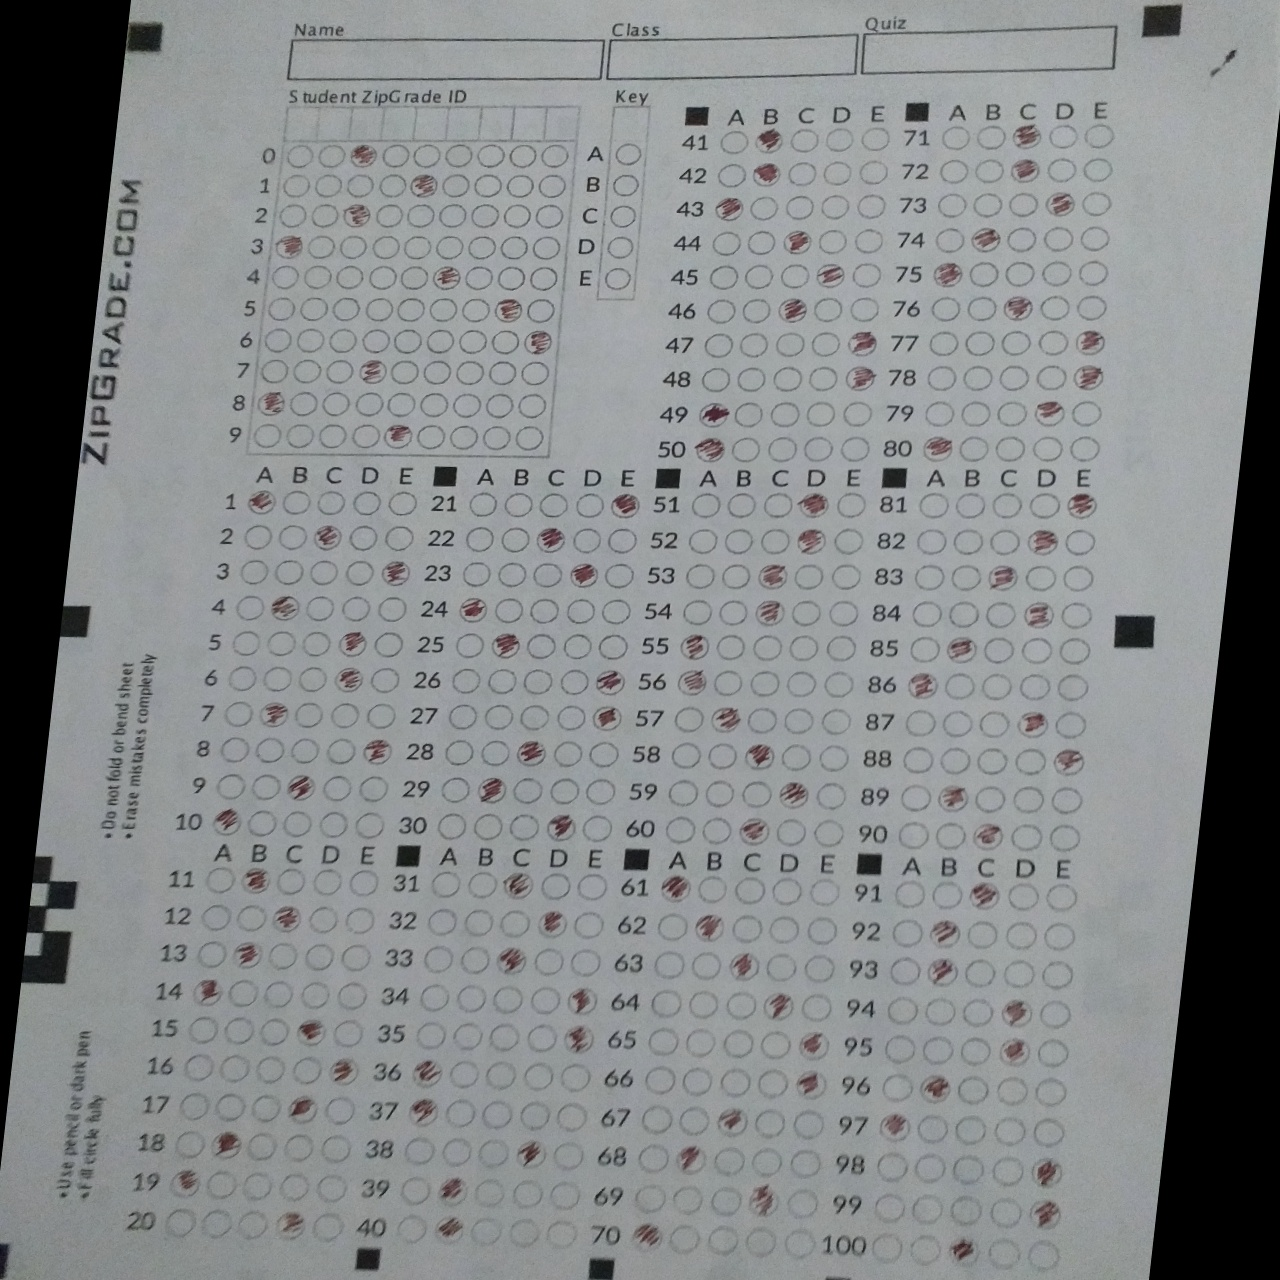not-c: (942, 1190, 985, 1228), (905, 1228, 945, 1268), (1034, 998, 1080, 1032), (635, 1099, 678, 1136), (870, 1149, 912, 1184), (886, 915, 930, 949), (161, 1204, 200, 1240), (166, 1124, 207, 1159), (983, 1235, 1024, 1271), (628, 1182, 670, 1216), (917, 1032, 959, 1065), (501, 1216, 545, 1247), (878, 1030, 918, 1065), (1023, 1238, 1064, 1272), (983, 1194, 1024, 1228), (987, 1155, 1028, 1189), (1033, 1036, 1075, 1069), (468, 1177, 511, 1208), (869, 1227, 906, 1264), (908, 1189, 945, 1226), (390, 1208, 429, 1244), (798, 989, 837, 1024), (870, 1189, 908, 1224), (651, 908, 690, 942), (989, 1114, 1029, 1148), (1044, 821, 1084, 855), (542, 1217, 583, 1250), (779, 1226, 821, 1259), (883, 952, 924, 985), (999, 918, 1040, 951), (1051, 670, 1092, 703), (784, 1148, 826, 1179), (316, 1130, 355, 1164), (753, 1065, 791, 1099), (707, 1184, 745, 1218), (1029, 1114, 1068, 1148), (959, 1033, 998, 1067), (474, 1137, 513, 1170), (645, 985, 685, 1017), (751, 1107, 791, 1139), (632, 1141, 672, 1173), (1039, 959, 1078, 992), (949, 1114, 990, 1145), (784, 1184, 821, 1219), (288, 1051, 326, 1085), (173, 1088, 211, 1122), (519, 1058, 557, 1092), (395, 1173, 433, 1207), (910, 1150, 947, 1184), (210, 1090, 248, 1123), (410, 1017, 449, 1050), (557, 1060, 595, 1092), (481, 1058, 519, 1091), (399, 1132, 437, 1165), (1032, 1075, 1070, 1108), (243, 1130, 282, 1162), (545, 1179, 585, 1211), (729, 874, 769, 906), (756, 1027, 796, 1058), (881, 993, 921, 1024), (892, 819, 932, 851), (942, 598, 982, 629), (665, 738, 706, 769), (888, 878, 930, 908), (896, 742, 937, 772), (1032, 361, 1073, 392), (668, 1183, 704, 1217), (704, 1223, 741, 1257), (321, 1092, 359, 1125), (666, 1223, 703, 1255), (742, 1225, 779, 1258), (425, 869, 464, 900), (522, 1022, 560, 1054), (824, 597, 863, 628), (930, 821, 968, 852), (845, 259, 885, 290), (874, 1071, 914, 1102), (910, 526, 949, 557), (1024, 490, 1064, 520), (791, 1108, 826, 1142), (275, 1171, 312, 1204), (309, 1211, 346, 1244), (681, 1024, 717, 1057), (251, 1053, 288, 1084), (181, 1049, 218, 1081), (418, 942, 456, 974), (436, 1135, 474, 1166), (696, 361, 734, 393), (663, 775, 701, 806), (810, 817, 847, 849), (765, 914, 803, 946), (640, 1063, 678, 1095), (913, 1112, 951, 1144), (1041, 919, 1078, 951), (1014, 670, 1051, 702), (980, 598, 1017, 629), (566, 947, 605, 978), (550, 1139, 588, 1170), (467, 1216, 505, 1246), (660, 812, 699, 843), (686, 949, 724, 980), (678, 1065, 716, 1096), (947, 1153, 986, 1184), (992, 1076, 1030, 1107), (1010, 745, 1049, 776), (918, 399, 956, 429), (493, 907, 533, 937), (937, 709, 976, 738), (329, 1016, 365, 1049), (248, 1090, 284, 1123), (240, 1169, 275, 1201), (764, 951, 799, 983), (646, 1024, 681, 1057), (717, 1065, 753, 1098), (197, 900, 233, 932), (574, 871, 611, 903), (416, 980, 452, 1012), (833, 489, 870, 520), (720, 1027, 756, 1058), (961, 995, 998, 1027), (961, 958, 998, 989), (517, 1099, 554, 1130), (837, 434, 874, 464), (812, 778, 850, 809), (701, 777, 738, 808), (767, 876, 804, 906), (728, 913, 765, 944), (748, 1146, 785, 1177), (921, 994, 959, 1024), (979, 635, 1016, 666), (993, 399, 1030, 429), (959, 361, 996, 392), (1073, 292, 1110, 322), (930, 224, 967, 254), (312, 1173, 350, 1203), (808, 297, 846, 326), (765, 399, 804, 428), (799, 953, 838, 982), (971, 745, 1009, 775), (1061, 527, 1099, 557), (912, 490, 951, 519), (990, 433, 1029, 462), (678, 1104, 712, 1137), (306, 903, 341, 934), (222, 1014, 257, 1046), (281, 1131, 316, 1163), (199, 1207, 234, 1239), (234, 1208, 270, 1240), (700, 813, 735, 845), (908, 597, 944, 628), (989, 488, 1024, 519), (958, 397, 993, 429), (1037, 291, 1073, 322), (1002, 258, 1037, 290), (217, 1053, 253, 1083), (526, 985, 563, 1015), (445, 1058, 482, 1089), (510, 1178, 546, 1208), (763, 433, 799, 463), (687, 489, 723, 519), (806, 876, 843, 906), (723, 990, 760, 1021), (712, 1145, 748, 1176), (954, 1075, 990, 1105), (964, 919, 1000, 949), (930, 879, 966, 910), (1005, 881, 1041, 912), (1043, 881, 1080, 912), (897, 781, 933, 811), (973, 783, 1009, 813), (937, 744, 973, 775), (900, 707, 937, 737), (1022, 561, 1058, 592), (309, 866, 347, 896), (553, 1103, 591, 1132), (649, 949, 687, 979), (1053, 710, 1090, 740), (1035, 327, 1073, 356), (926, 294, 964, 324), (1057, 601, 1096, 629), (908, 563, 947, 591), (1058, 564, 1097, 592), (1081, 122, 1119, 150), (257, 1015, 291, 1047), (204, 1167, 238, 1199), (571, 908, 605, 940), (462, 905, 496, 937), (704, 738, 738, 770), (281, 139, 316, 170), (455, 326, 490, 356), (335, 980, 370, 1010), (531, 946, 566, 976), (451, 1021, 486, 1051), (823, 632, 858, 662), (805, 915, 840, 946), (686, 988, 721, 1019), (1001, 958, 1036, 988), (1009, 823, 1044, 853), (996, 361, 1032, 392), (263, 293, 299, 322), (584, 776, 620, 805), (486, 1022, 523, 1051), (442, 1098, 478, 1128), (479, 1099, 516, 1129), (700, 328, 736, 358), (769, 365, 805, 394), (693, 874, 729, 904), (978, 670, 1014, 700), (949, 527, 986, 557), (987, 527, 1023, 557), (714, 127, 751, 155), (1017, 635, 1055, 663), (1055, 636, 1092, 665), (226, 976, 259, 1008), (454, 981, 486, 1013), (372, 200, 406, 231), (261, 980, 295, 1010), (343, 905, 377, 935), (489, 983, 523, 1014), (856, 156, 890, 186), (1049, 787, 1083, 817), (1039, 258, 1073, 288), (937, 155, 971, 185), (579, 813, 614, 843), (464, 870, 499, 899), (457, 945, 492, 974), (799, 433, 835, 462), (744, 704, 779, 734), (738, 778, 774, 808), (772, 817, 808, 846), (1010, 785, 1046, 815), (941, 670, 976, 700), (907, 634, 942, 663), (1067, 433, 1102, 462), (962, 328, 998, 358), (967, 259, 1002, 288), (969, 190, 1005, 219), (934, 190, 969, 219), (857, 124, 893, 152), (713, 161, 749, 189), (850, 225, 886, 253), (815, 743, 851, 771), (952, 490, 988, 518), (998, 329, 1034, 358), (1075, 259, 1111, 287), (258, 326, 295, 353), (707, 229, 744, 256), (299, 978, 331, 1009), (267, 940, 300, 971), (1041, 156, 1080, 182), (339, 942, 373, 972), (302, 941, 336, 971), (840, 399, 874, 428), (1032, 433, 1065, 462), (1080, 188, 1114, 217), (436, 812, 471, 840), (423, 908, 458, 937), (782, 193, 817, 222), (978, 710, 1013, 738), (925, 362, 960, 390), (1078, 225, 1114, 253), (1005, 190, 1040, 218), (972, 157, 1007, 185), (972, 122, 1007, 150), (937, 123, 972, 151), (537, 872, 573, 899), (776, 263, 812, 290), (1070, 400, 1107, 427), (1041, 225, 1077, 252), (702, 298, 740, 324), (404, 200, 438, 229), (721, 526, 755, 554), (550, 738, 584, 767), (821, 159, 855, 188), (772, 329, 806, 358), (805, 365, 839, 393), (724, 490, 758, 518), (821, 669, 855, 697), (779, 743, 813, 771), (706, 263, 741, 290), (737, 331, 772, 358), (783, 670, 818, 697), (782, 707, 817, 734), (325, 326, 358, 354), (196, 940, 229, 968), (234, 904, 267, 932), (819, 193, 852, 222), (729, 434, 762, 462), (821, 707, 853, 735), (531, 202, 565, 229), (433, 234, 467, 261), (267, 263, 301, 290), (515, 392, 549, 418), (587, 740, 621, 767), (855, 193, 888, 220), (815, 229, 849, 256), (1005, 225, 1039, 252), (948, 564, 983, 590), (964, 295, 999, 321), (1080, 157, 1115, 183), (501, 200, 532, 229), (298, 294, 329, 322), (489, 328, 520, 356), (742, 263, 774, 291), (733, 399, 764, 427), (508, 142, 540, 169), (468, 202, 501, 229), (527, 265, 560, 292), (459, 297, 492, 324), (324, 358, 356, 384), (291, 358, 324, 384), (386, 490, 418, 517), (241, 523, 274, 550), (304, 594, 336, 621), (372, 629, 404, 656), (597, 633, 629, 660), (720, 561, 753, 588), (685, 561, 717, 588), (325, 737, 358, 764), (365, 702, 397, 729), (758, 527, 791, 554), (712, 669, 744, 696), (447, 702, 479, 729), (509, 813, 542, 840), (745, 229, 778, 256), (927, 329, 960, 356), (474, 142, 508, 168), (438, 172, 472, 198), (847, 297, 881, 322), (808, 331, 842, 356), (761, 492, 795, 518), (1046, 123, 1080, 149), (411, 141, 442, 169), (338, 232, 368, 260), (188, 1016, 218, 1044), (442, 141, 474, 168), (277, 202, 308, 229), (305, 232, 336, 259), (497, 234, 529, 261), (331, 295, 362, 322), (524, 297, 556, 324), (392, 327, 423, 354), (319, 390, 350, 417), (353, 390, 384, 417), (484, 392, 516, 418), (518, 360, 550, 387), (258, 358, 290, 384), (421, 358, 452, 384), (388, 358, 420, 384), (425, 328, 457, 355), (280, 488, 312, 515), (238, 558, 270, 585), (272, 558, 304, 585), (350, 422, 382, 449), (571, 527, 602, 554), (602, 561, 634, 588), (607, 527, 639, 554), (688, 527, 720, 554), (600, 597, 632, 624), (719, 599, 750, 626), (265, 629, 297, 656), (301, 629, 333, 656), (450, 667, 482, 694), (293, 701, 325, 728), (329, 701, 361, 728), (227, 663, 259, 690), (261, 665, 293, 692), (297, 666, 328, 693), (833, 527, 865, 554), (751, 633, 783, 660), (714, 633, 745, 660), (529, 595, 560, 622), (511, 777, 543, 804), (479, 738, 511, 765), (749, 670, 781, 697), (354, 811, 386, 838), (318, 811, 349, 838), (358, 774, 389, 801), (215, 772, 246, 799), (607, 203, 640, 229), (604, 233, 636, 259), (394, 297, 427, 322), (427, 297, 459, 322), (284, 422, 316, 448), (481, 424, 513, 450), (454, 359, 486, 384), (275, 524, 308, 550), (502, 491, 535, 517), (447, 425, 479, 451), (316, 421, 349, 447), (467, 491, 499, 517), (414, 423, 447, 449), (461, 561, 493, 587), (339, 595, 372, 621), (454, 633, 486, 659), (495, 561, 527, 587), (230, 629, 263, 655), (222, 700, 254, 726), (787, 634, 819, 660), (520, 668, 553, 694), (248, 774, 281, 799), (823, 127, 856, 152), (740, 298, 772, 324), (735, 366, 768, 392), (787, 128, 821, 152), (467, 234, 497, 261), (613, 139, 644, 166), (451, 392, 482, 418), (287, 390, 318, 417), (565, 597, 595, 624), (440, 776, 470, 803), (443, 738, 474, 765), (474, 812, 504, 839), (322, 775, 353, 802), (749, 195, 779, 222), (315, 142, 347, 168), (312, 172, 343, 198), (377, 172, 409, 198), (530, 234, 561, 260), (367, 264, 399, 290), (386, 392, 417, 417), (418, 392, 450, 417), (486, 359, 518, 384), (251, 422, 282, 448), (512, 424, 544, 450), (501, 526, 532, 552), (464, 526, 496, 552), (350, 490, 382, 516), (308, 559, 340, 585), (382, 525, 414, 551), (346, 524, 377, 550), (573, 493, 605, 519), (537, 492, 568, 518), (343, 559, 375, 585), (376, 595, 408, 621), (492, 597, 524, 622), (561, 632, 593, 658), (789, 600, 821, 626), (233, 594, 265, 620), (368, 667, 400, 693), (830, 563, 862, 588), (219, 736, 251, 762), (254, 736, 286, 762), (288, 736, 320, 762), (483, 704, 515, 730), (517, 704, 549, 730), (673, 706, 704, 731), (549, 777, 580, 803), (554, 704, 586, 730), (486, 668, 518, 694), (245, 810, 277, 836), (274, 869, 306, 894), (347, 870, 379, 896), (787, 161, 818, 186), (804, 400, 836, 425), (503, 173, 536, 198), (462, 265, 495, 290), (956, 436, 989, 461), (309, 202, 339, 229), (302, 264, 333, 290), (602, 265, 633, 291), (363, 297, 394, 322), (314, 490, 345, 516), (525, 632, 556, 658), (532, 561, 563, 587), (794, 563, 824, 588), (682, 598, 713, 624), (558, 669, 588, 695), (281, 810, 312, 836), (204, 867, 234, 893), (539, 144, 571, 169), (379, 143, 410, 168), (280, 172, 312, 197), (345, 173, 376, 198), (495, 265, 526, 290), (358, 328, 390, 352), (438, 202, 467, 229), (474, 172, 503, 198), (372, 233, 401, 259), (402, 234, 433, 259), (334, 265, 365, 290), (399, 265, 429, 290), (295, 327, 326, 352), (537, 173, 567, 197), (610, 173, 640, 197)
taken-c: (1024, 1194, 1065, 1231), (915, 1070, 956, 1105), (944, 1233, 983, 1268), (744, 1182, 782, 1218), (1026, 1155, 1065, 1189), (673, 1142, 710, 1177), (760, 989, 798, 1023), (713, 1104, 751, 1138), (876, 1110, 914, 1144), (995, 1035, 1035, 1068), (922, 955, 964, 987), (690, 910, 728, 944), (165, 1166, 204, 1199), (1050, 747, 1089, 779), (998, 996, 1036, 1029), (565, 983, 601, 1017), (796, 1028, 832, 1062), (272, 1208, 309, 1241), (434, 1176, 471, 1208), (493, 944, 531, 976), (926, 917, 964, 949), (792, 1067, 831, 1098), (1013, 708, 1051, 740), (965, 879, 1003, 911), (515, 1137, 550, 1171), (726, 949, 762, 982), (629, 1221, 666, 1254), (404, 1096, 442, 1128), (967, 223, 1005, 254), (969, 821, 1007, 852), (229, 940, 267, 971), (409, 1057, 445, 1089), (189, 976, 226, 1007), (206, 1130, 244, 1160), (1008, 122, 1046, 152), (1024, 526, 1062, 557), (942, 634, 980, 665), (918, 434, 956, 463), (737, 815, 772, 846), (287, 1092, 322, 1124), (742, 741, 778, 771), (293, 1017, 329, 1048), (326, 1055, 362, 1085), (658, 873, 694, 904), (985, 561, 1021, 592), (1020, 599, 1056, 629), (905, 670, 941, 701), (935, 783, 972, 813), (1032, 399, 1069, 428), (476, 774, 510, 805), (268, 903, 302, 934), (535, 908, 570, 939), (499, 871, 535, 901), (607, 491, 644, 520), (486, 629, 523, 659), (794, 526, 830, 556), (775, 779, 811, 809), (560, 1024, 597, 1054), (775, 295, 811, 325), (712, 195, 748, 224), (1042, 189, 1078, 218), (999, 293, 1035, 322), (694, 401, 731, 429), (840, 363, 878, 392), (1063, 492, 1101, 520), (753, 597, 787, 627), (693, 434, 727, 464), (1074, 326, 1108, 356), (244, 486, 279, 516), (209, 806, 244, 836), (513, 738, 549, 768), (708, 704, 743, 734), (592, 668, 628, 696), (588, 703, 625, 731), (544, 812, 580, 840), (796, 491, 832, 519), (430, 1214, 467, 1242), (844, 329, 880, 358), (1070, 365, 1108, 392), (520, 327, 554, 356), (331, 665, 365, 694), (361, 736, 395, 765), (535, 525, 568, 554), (678, 633, 712, 662), (930, 260, 964, 290), (377, 559, 414, 586), (755, 563, 791, 590), (284, 774, 316, 803), (568, 559, 601, 588), (336, 629, 370, 658), (257, 699, 291, 727), (675, 668, 709, 696), (750, 159, 784, 188), (753, 127, 787, 155), (812, 263, 847, 290), (340, 200, 373, 229), (254, 389, 288, 416), (309, 523, 343, 550), (456, 595, 490, 622), (779, 229, 813, 256), (1008, 157, 1042, 184), (406, 173, 441, 199), (346, 142, 379, 169), (382, 423, 415, 450), (355, 359, 389, 384), (267, 594, 301, 620), (238, 867, 272, 893), (272, 234, 306, 259), (430, 264, 461, 291), (492, 297, 523, 324)
